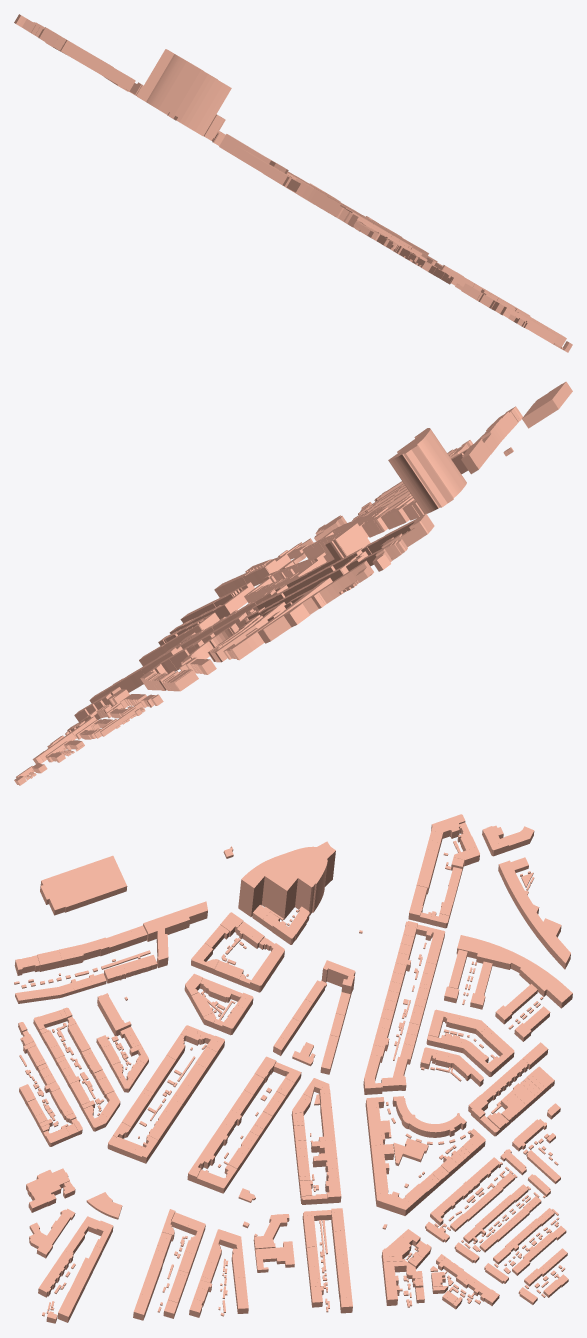
3 views of the same model, one above another, from view 1: azimuth 30°, elevation 25°; view 2: azimuth 150°, elevation 25°; view 3: azimuth 270°, elevation 25° (orthographic). The views are drawn at different scales.
Bounding box in the file's own units: 532 × 407 × 634.
